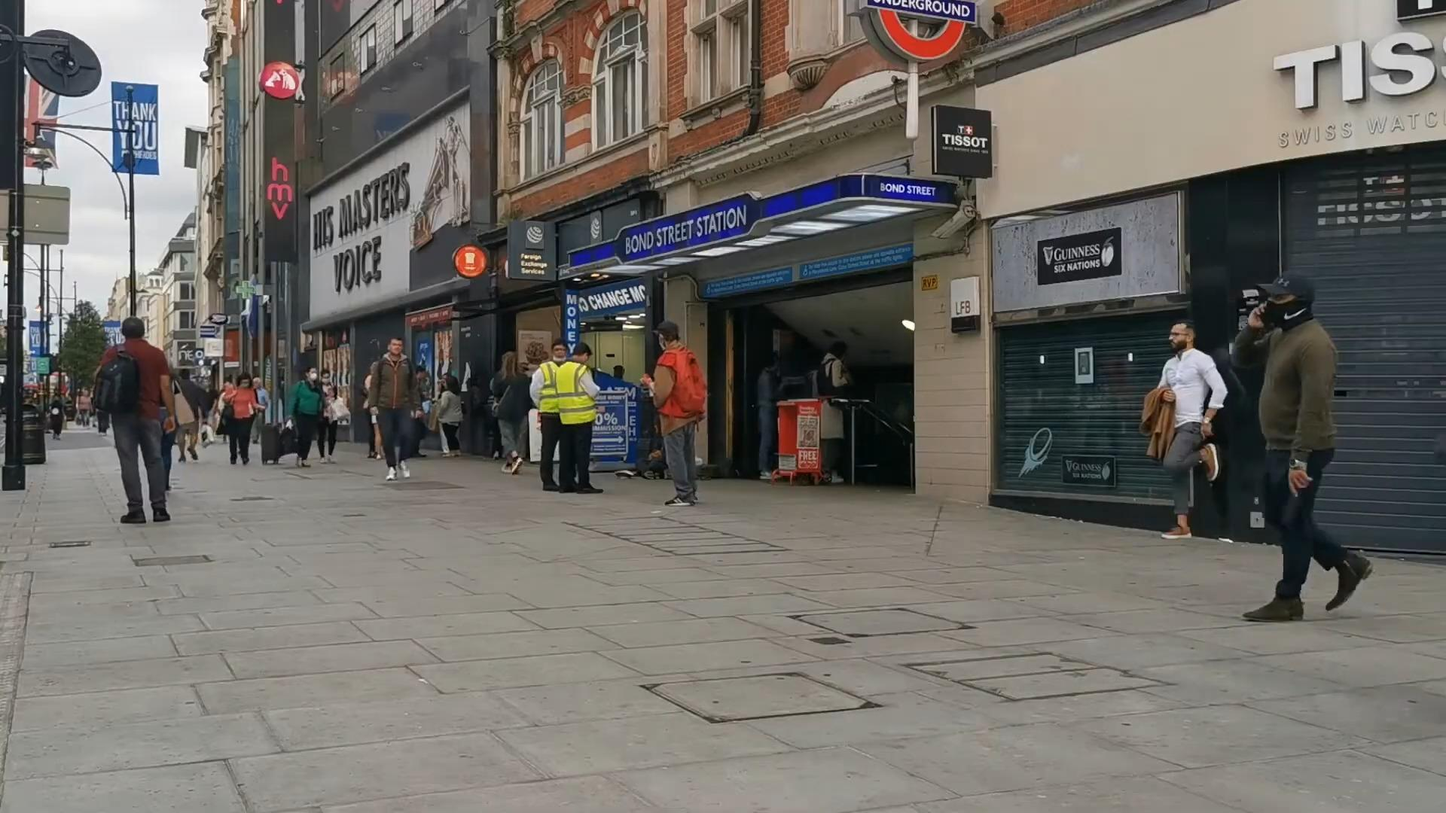no-helmet: (1258, 270, 1315, 331), (651, 319, 681, 350), (1169, 319, 1196, 353), (123, 316, 145, 339), (573, 342, 592, 364), (502, 351, 517, 377), (552, 339, 567, 362), (445, 376, 461, 396), (388, 337, 403, 356), (236, 372, 253, 388), (305, 365, 317, 381), (320, 369, 330, 385)
